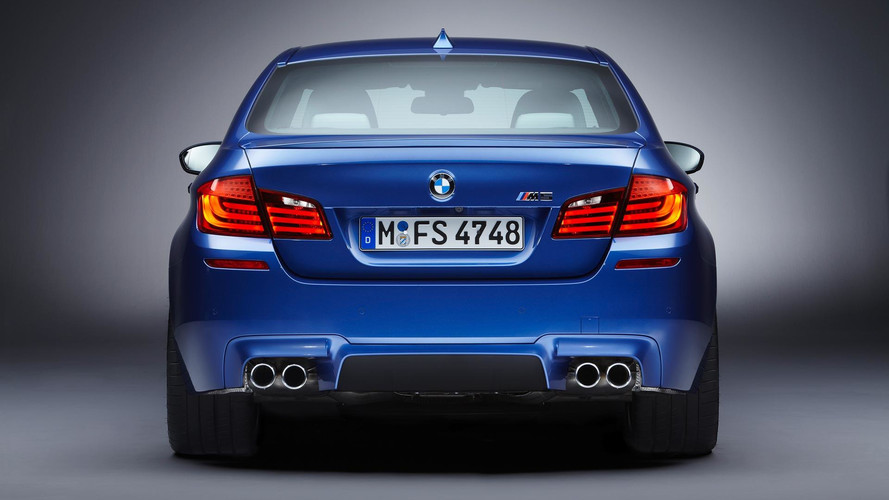bmw: (143, 17, 741, 493)
